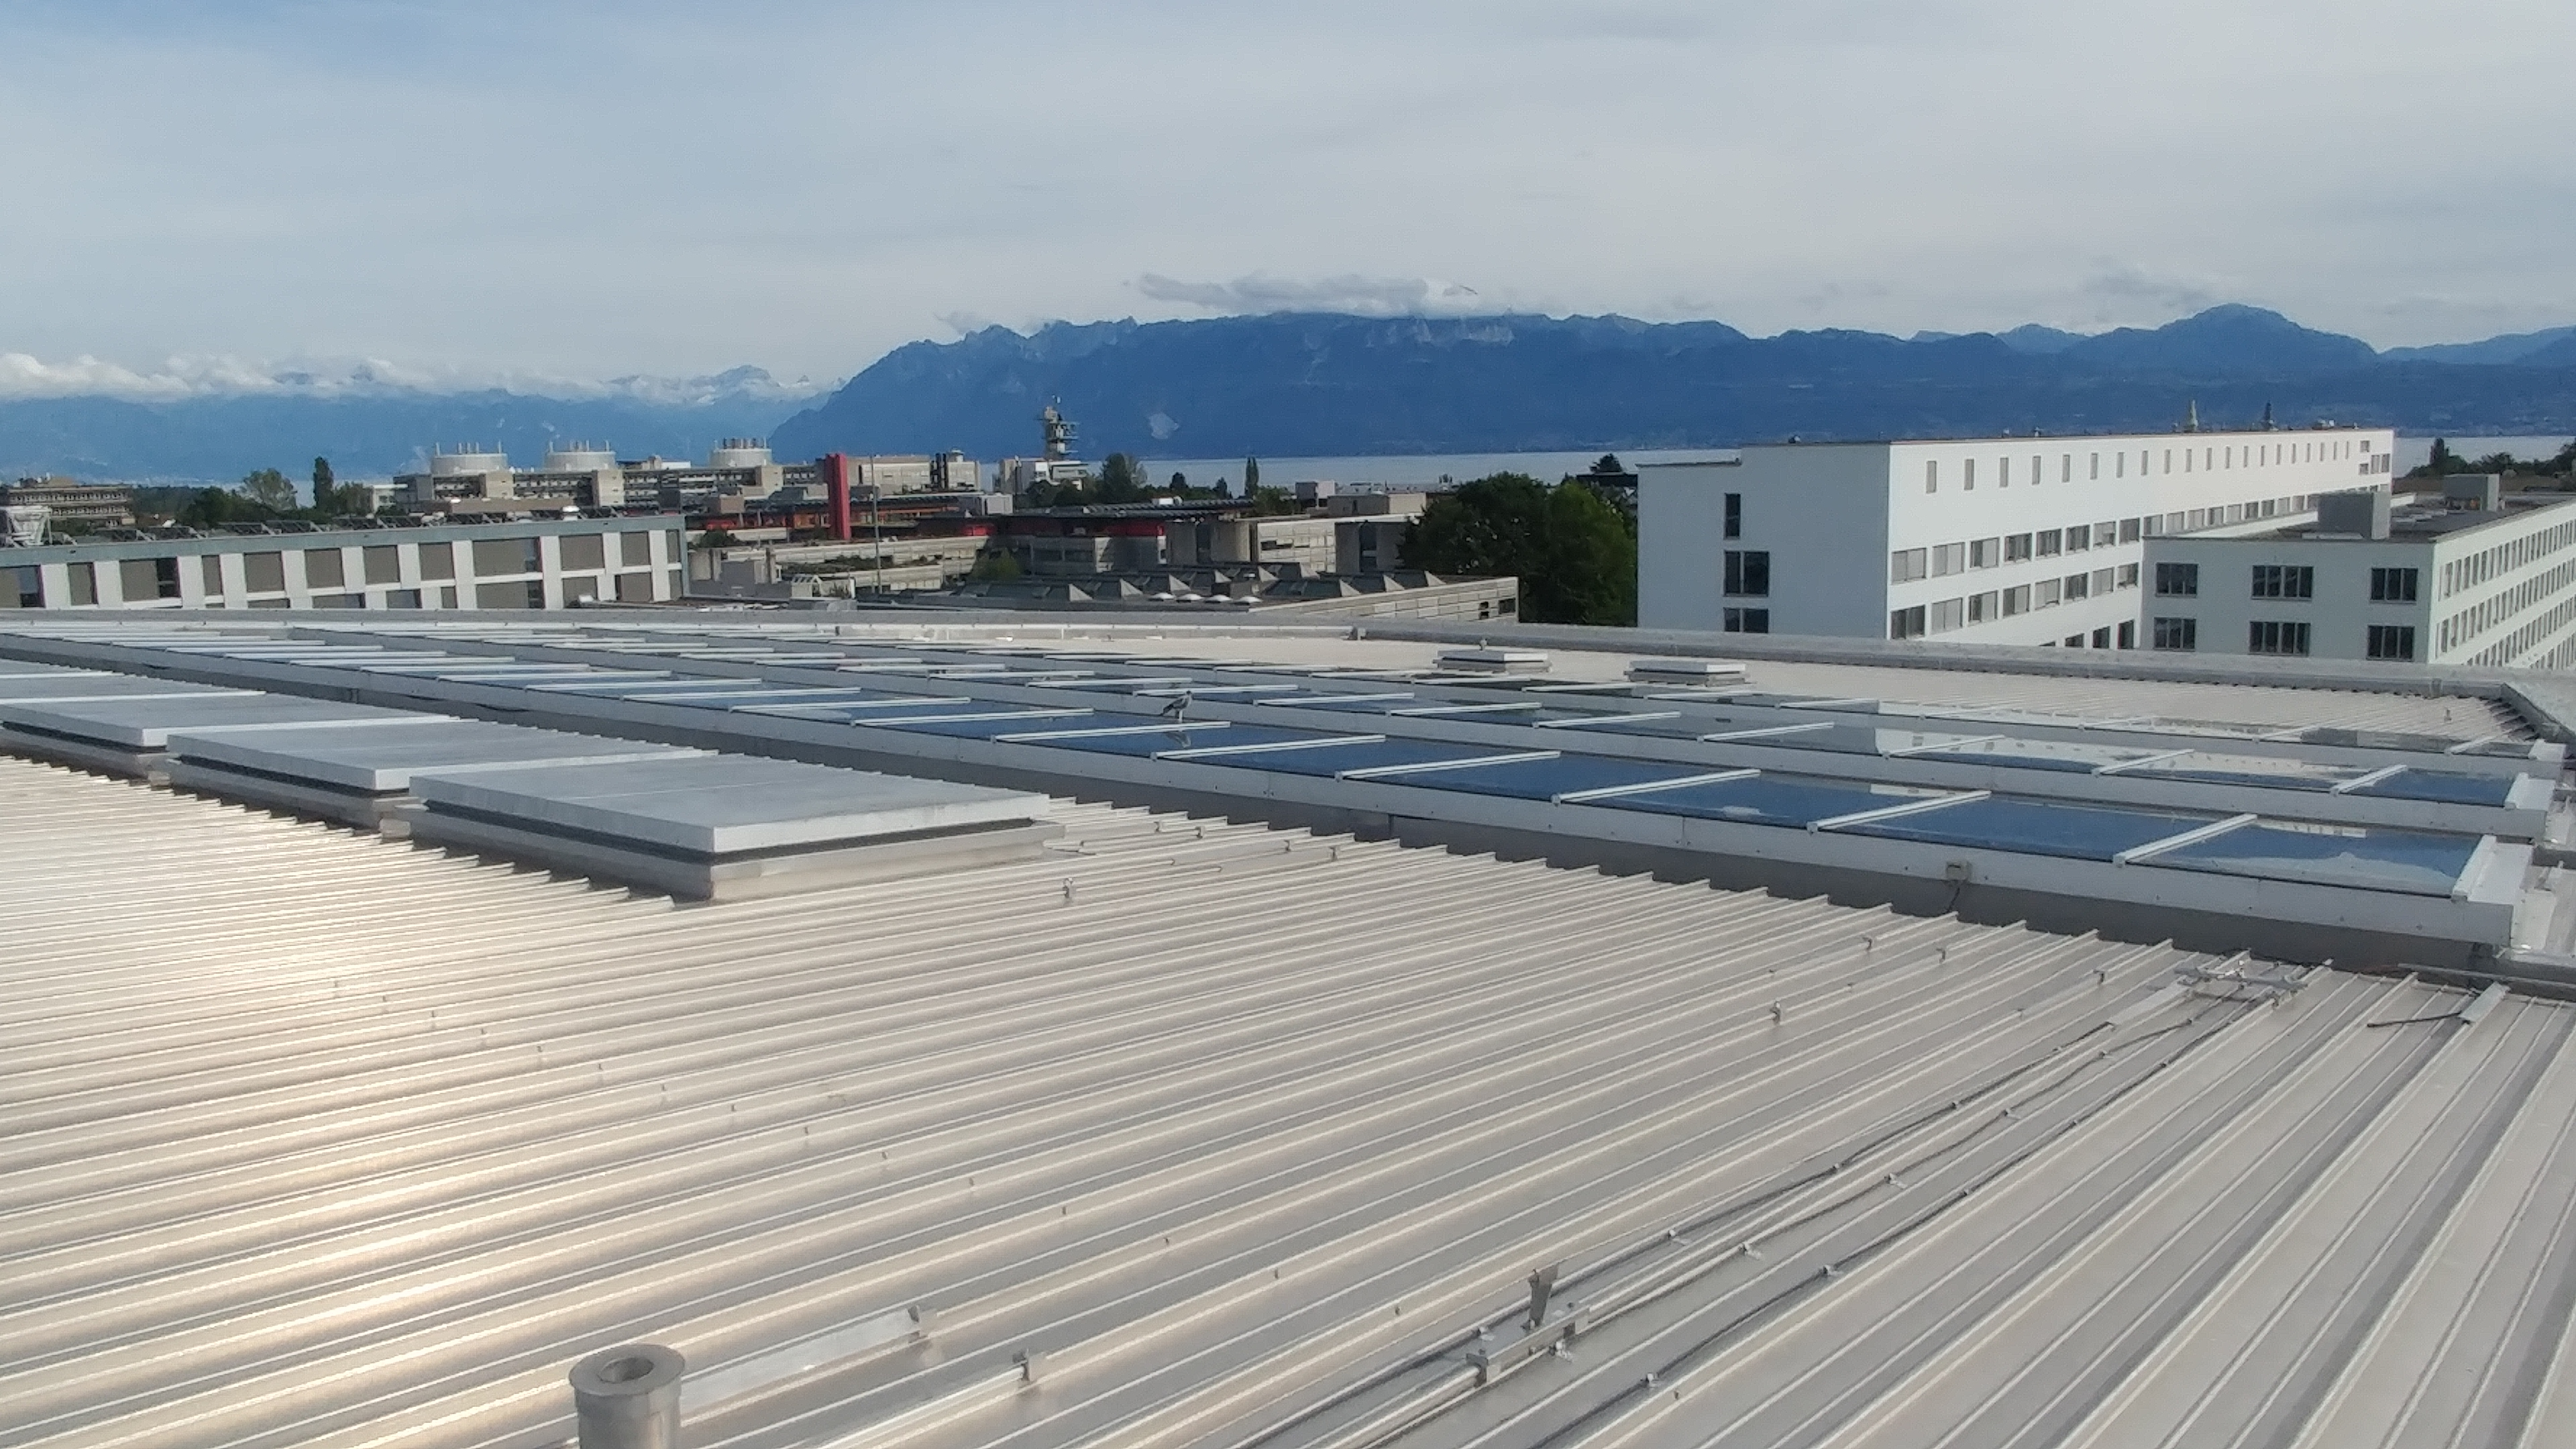Pigeon: (1155, 688, 1200, 731)
